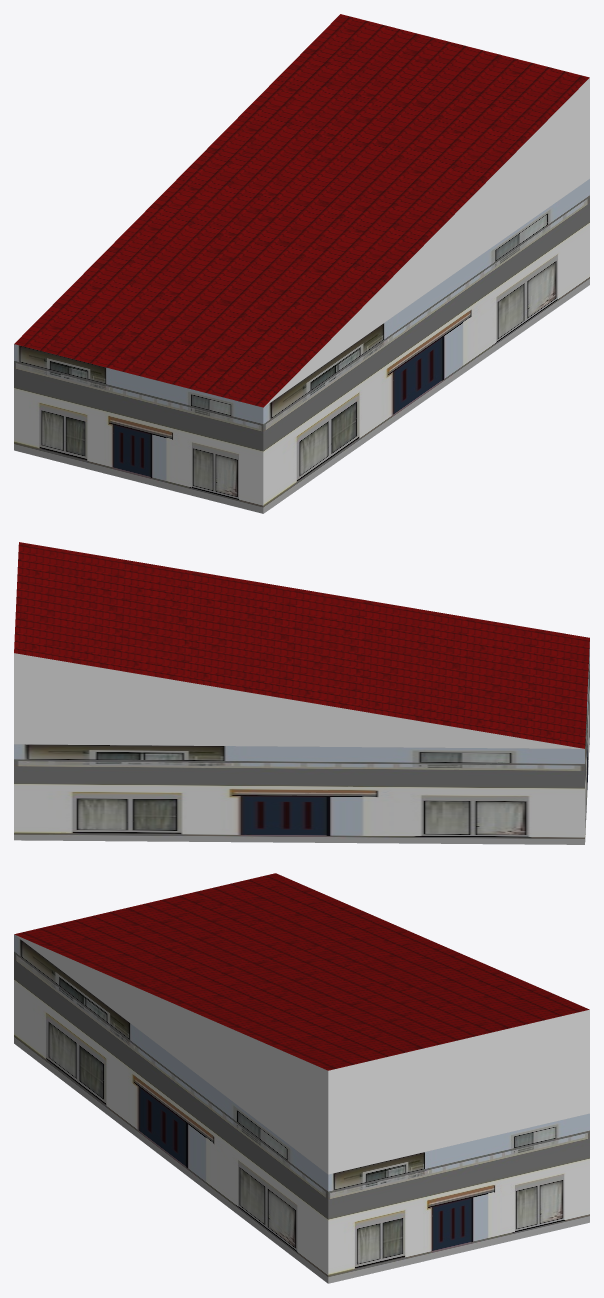
3 renders of one model, top to bottom at view 1: azimuth 30°, elevation 25°; view 2: azimuth 150°, elevation 25°; view 3: azimuth 270°, elevation 25°, orthographic. The views are drawn at different scales.
Parts seen in each view (by area): view 1: CityEngineMaterial_17_m, CityEngineMaterial_7_m, CityEngineMaterial_3_m; view 2: CityEngineMaterial_17_m, CityEngineMaterial_7_m, CityEngineMaterial_3_m; view 3: CityEngineMaterial_7_m, CityEngineMaterial_17_m, CityEngineMaterial_3_m.
Part boxes in pixels (x1,y1,x2,y2): CityEngineMaterial_17_m: [14, 14, 589, 407]; CityEngineMaterial_7_m: [14, 179, 589, 513]; CityEngineMaterial_3_m: [264, 78, 589, 406]; CityEngineMaterial_17_m: [14, 542, 589, 748]; CityEngineMaterial_7_m: [14, 642, 589, 844]; CityEngineMaterial_3_m: [14, 653, 583, 748]; CityEngineMaterial_7_m: [14, 934, 589, 1283]; CityEngineMaterial_17_m: [14, 873, 589, 1070]; CityEngineMaterial_3_m: [15, 935, 589, 1174].
Size of the model in its own units: 36 by 11.86 by 29.07.
